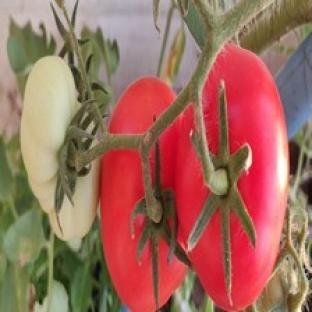Tomato: (189, 45, 288, 310), (21, 56, 100, 239), (101, 151, 155, 311)
